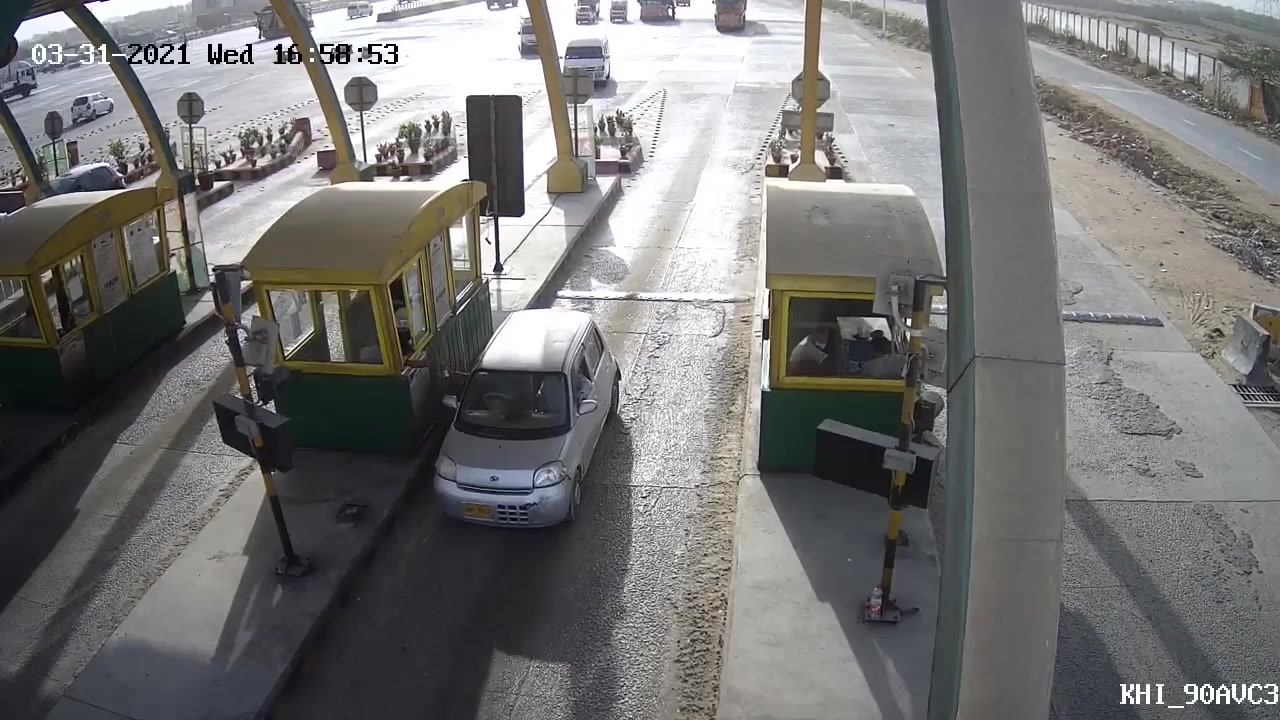F1: (412, 307, 630, 542)
